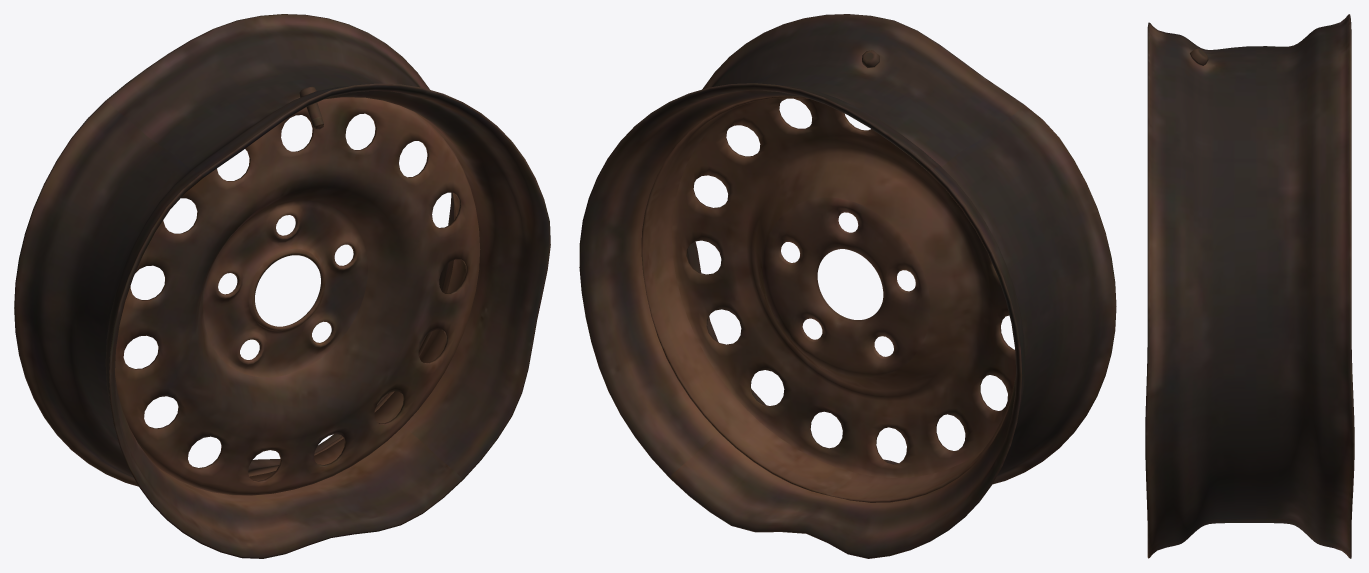
Rendered from rusted_wheel_rim_01.glb.
3 views of the same model, side by side, from view 1: azimuth 30°, elevation 25°; view 2: azimuth 150°, elevation 25°; view 3: azimuth 270°, elevation 25° (orthographic). The views are drawn at different scales.
Visible parts, largest first — view 1: rusted_wheel_rim_01; view 2: rusted_wheel_rim_01; view 3: rusted_wheel_rim_01.
Part boxes in pixels (x1,y1,x2,y2): rusted_wheel_rim_01: [14, 14, 550, 558]; rusted_wheel_rim_01: [579, 14, 1116, 558]; rusted_wheel_rim_01: [1145, 14, 1354, 558].
Size of the model in its own units: 0.4028 by 0.3955 by 0.1541.
Materials: 1 (1 with a texture image).
